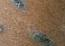plaque psoriasis: (31, 30, 53, 46), (10, 0, 25, 10), (0, 21, 4, 33)
